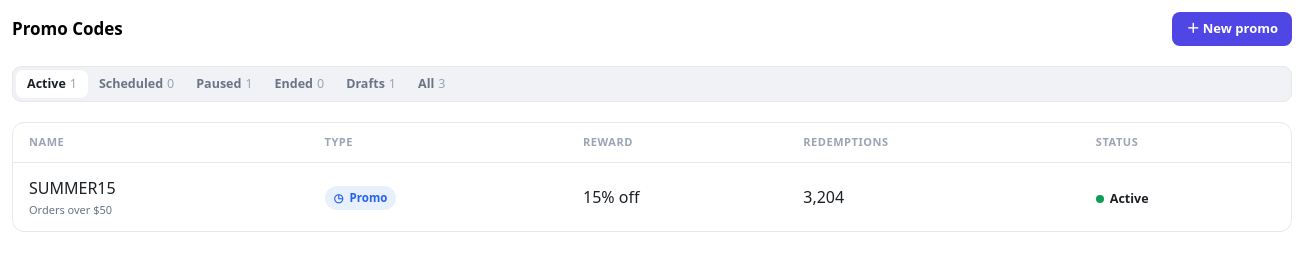
Test: empty state is shown when the filter yields zero programs
Click the button "Scheduled0" at x=137, y=84, box [88, 70, 185, 98]
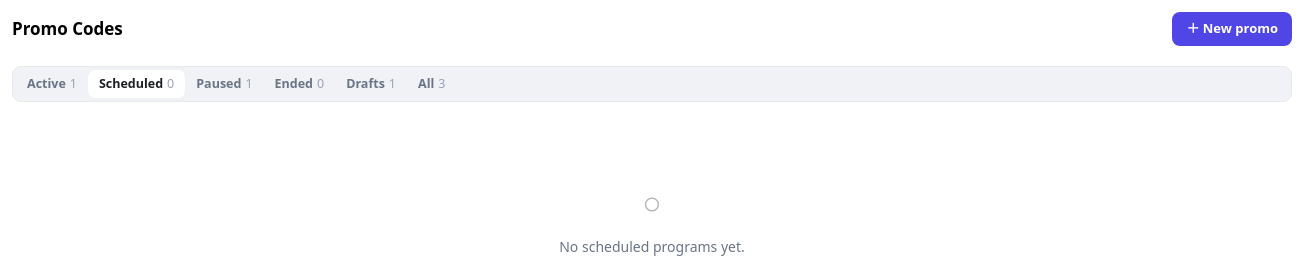
Expected: the element with test id "empty-state" is shown, [559, 180, 745, 256]
Expected: the text "No scheduled programs yet." is shown, [559, 236, 745, 257]
